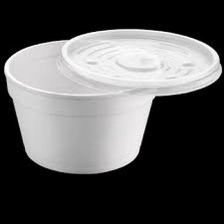paper_cup: (0, 32, 163, 178)
